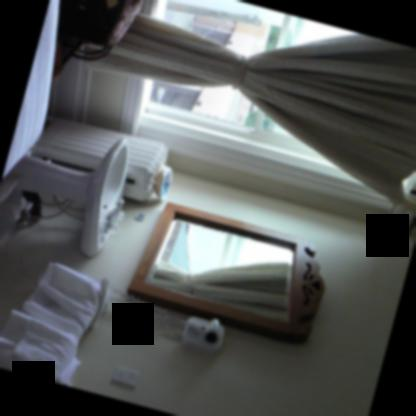suitcase: (67, 0, 123, 47)
